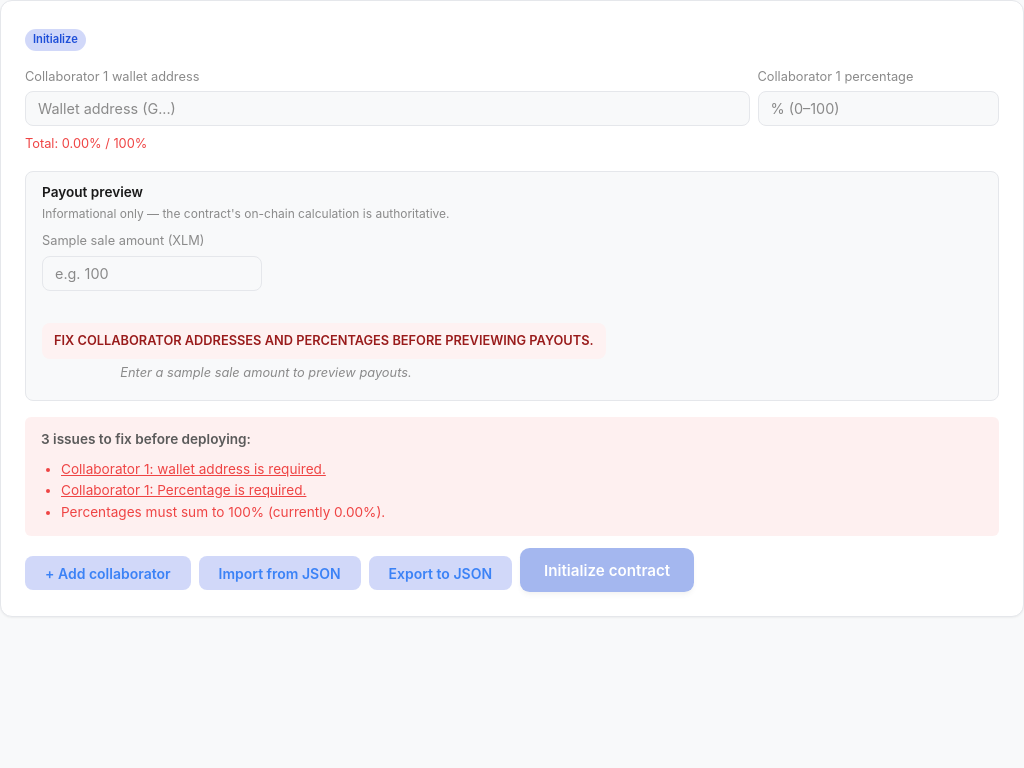
Test: InitializeForm validation summary › lists an issue for a missing address and an invalid percentage
In the number field labelled "Collaborator 1 percentage": (878,109) 758,91 -> 999,126, type "150"
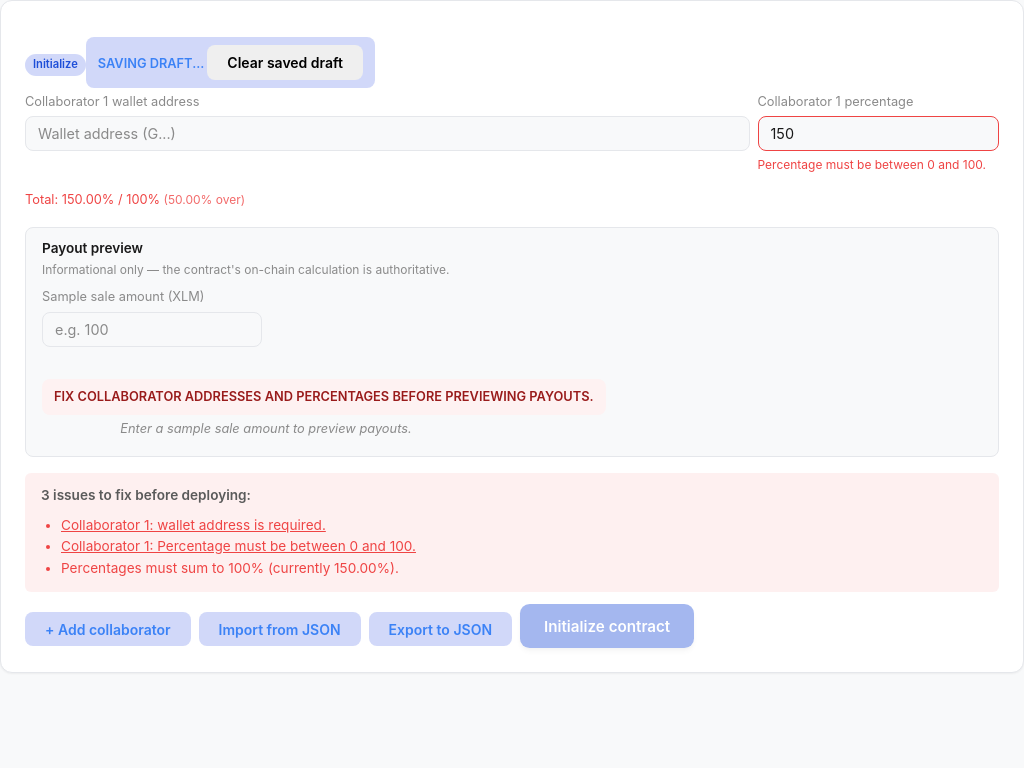
Expected: the message with test id "validation-summary-status" shows "issue", 50,487 -> 88,503
Expected: the text "Percentage must be between 0 and 100." is shown, 758,155 -> 999,174
